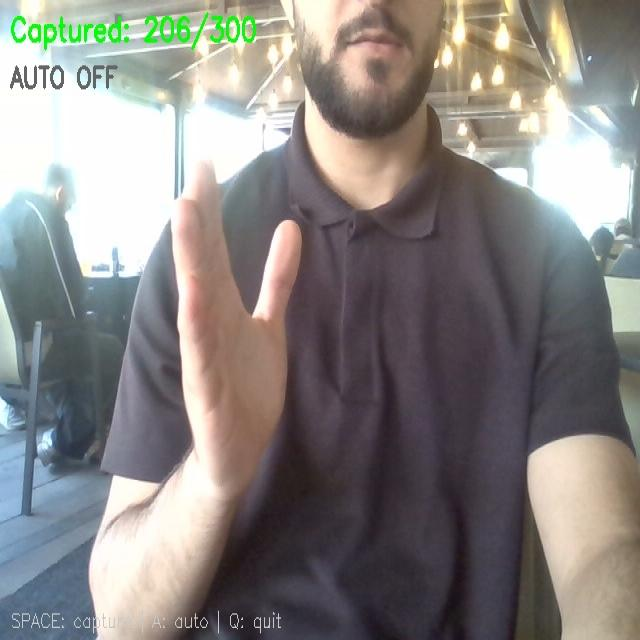Hand: (171, 163, 301, 499)
